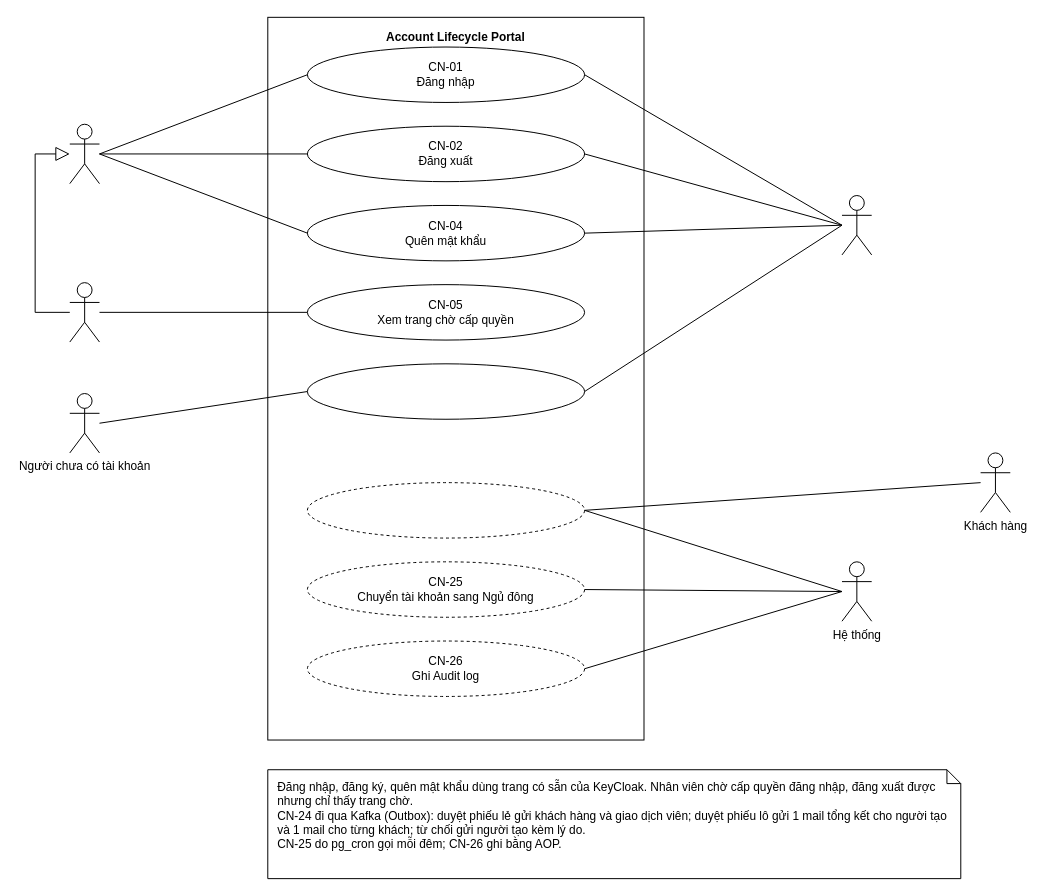
The diagram is 1044 pixels wide and 896 high, and some of its shapes have lost their labels. Here are the shapes that lost their labels. From the top down, the box of each, then its label:
(69, 123, 99, 184): Người dùng
(841, 195, 872, 255): KeyCloak
(69, 282, 99, 342): Nhân viên chờ cấp quyền
(306, 363, 585, 419): CN-03 Đăng ký
(306, 482, 585, 538): CN-24 Gửi mail kết quả
